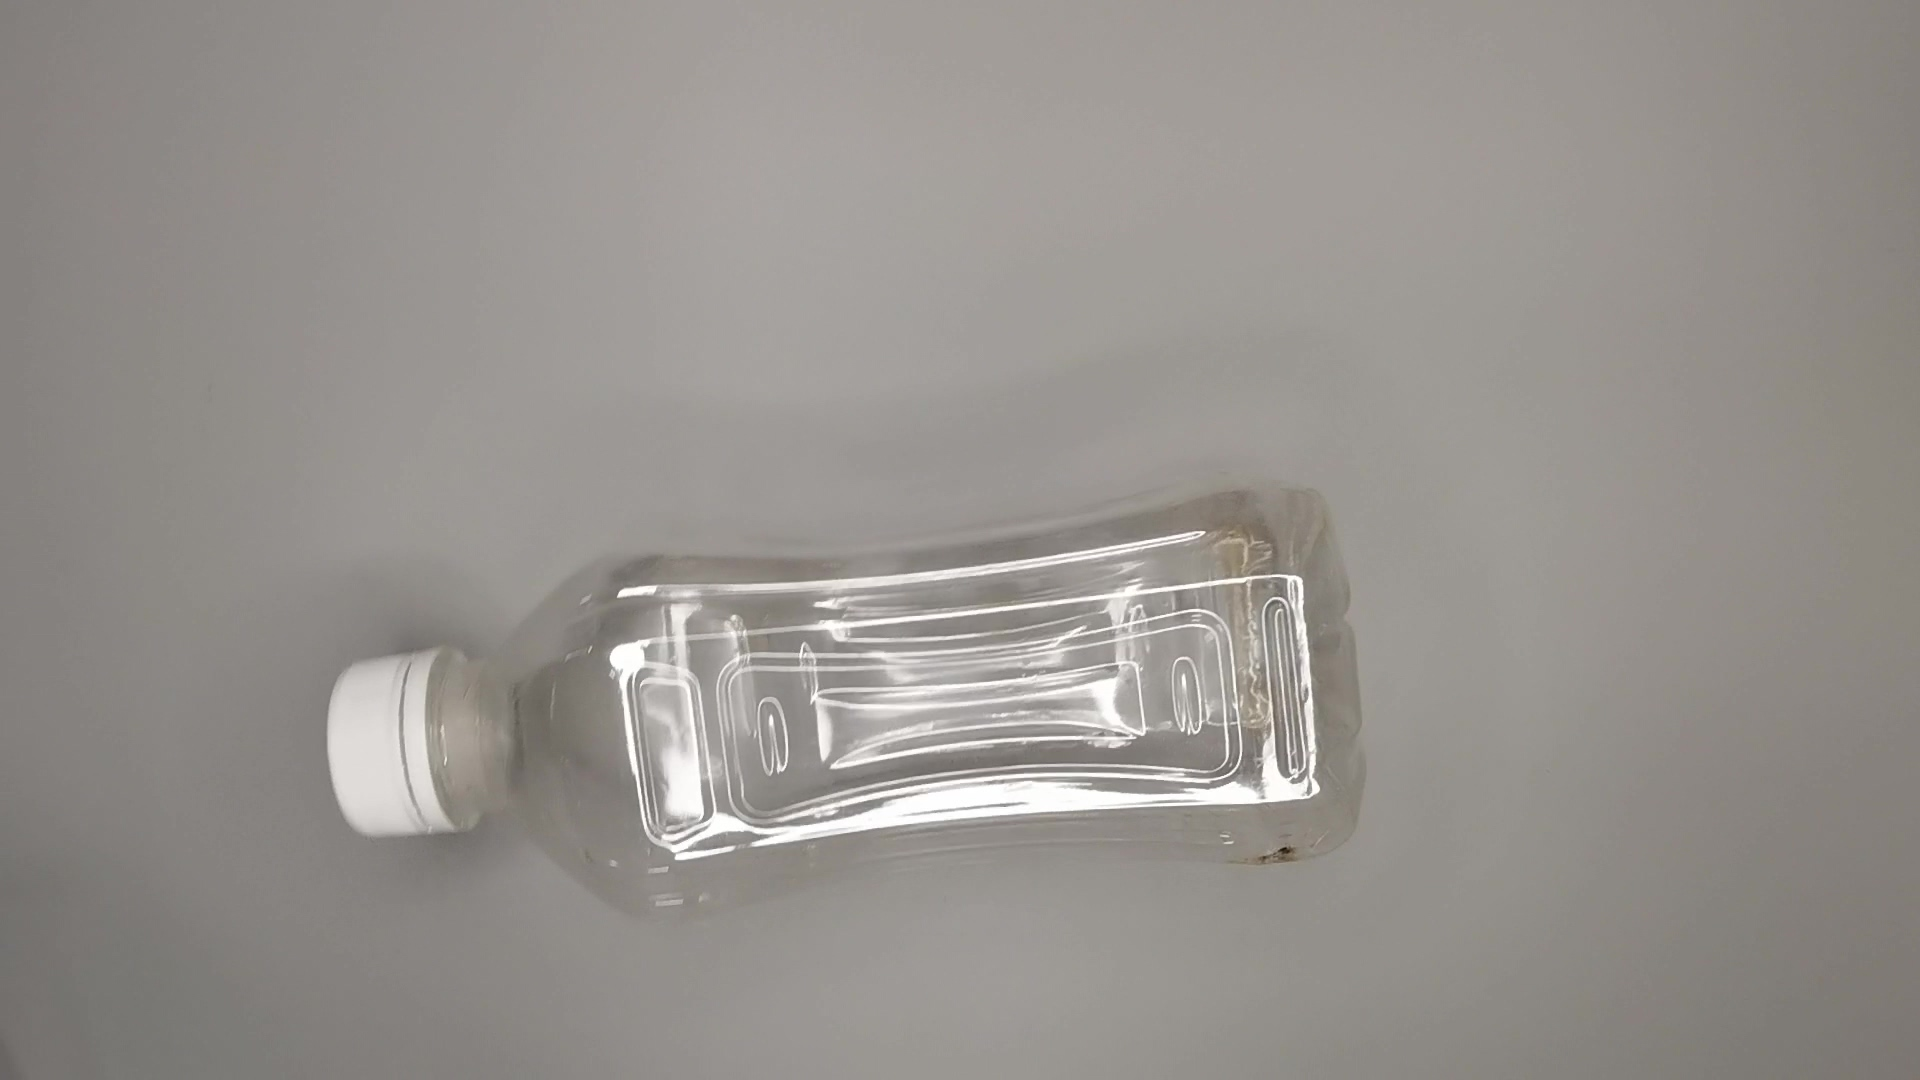bottle: (318, 471, 1371, 942)
